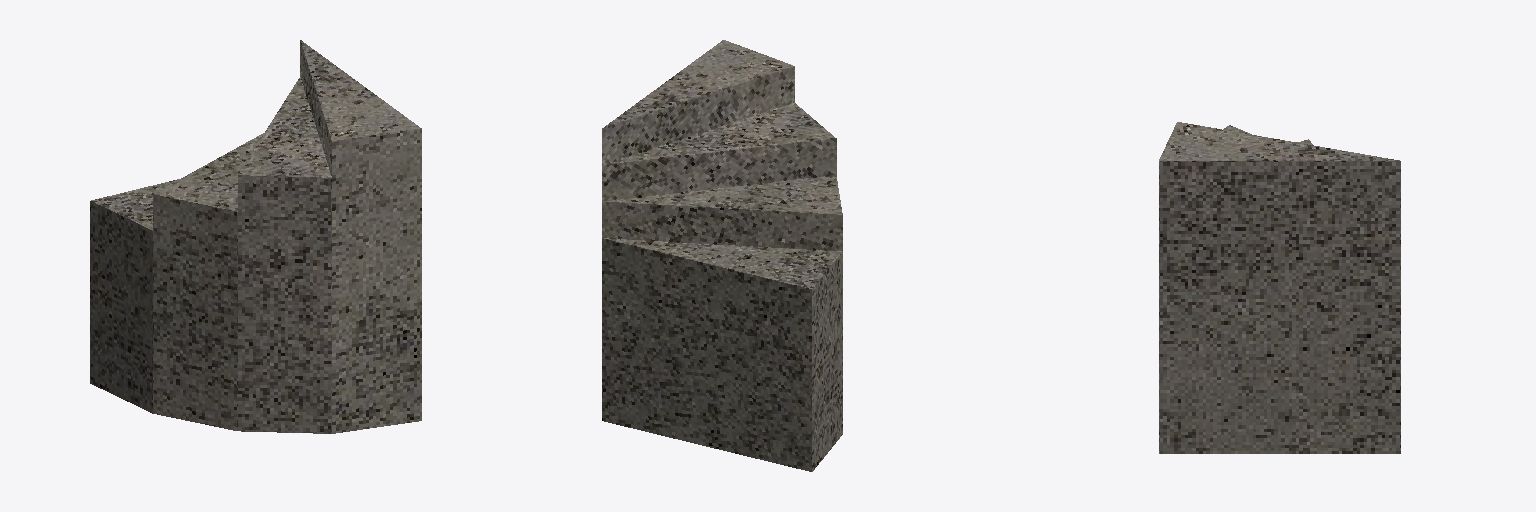
3 views of the same model, side by side, from view 1: azimuth 30°, elevation 25°; view 2: azimuth 150°, elevation 25°; view 3: azimuth 270°, elevation 25° (orthographic).
Bounding box in the file's own units: 1 × 1.33 × 1.
1 materials, 1 textured.